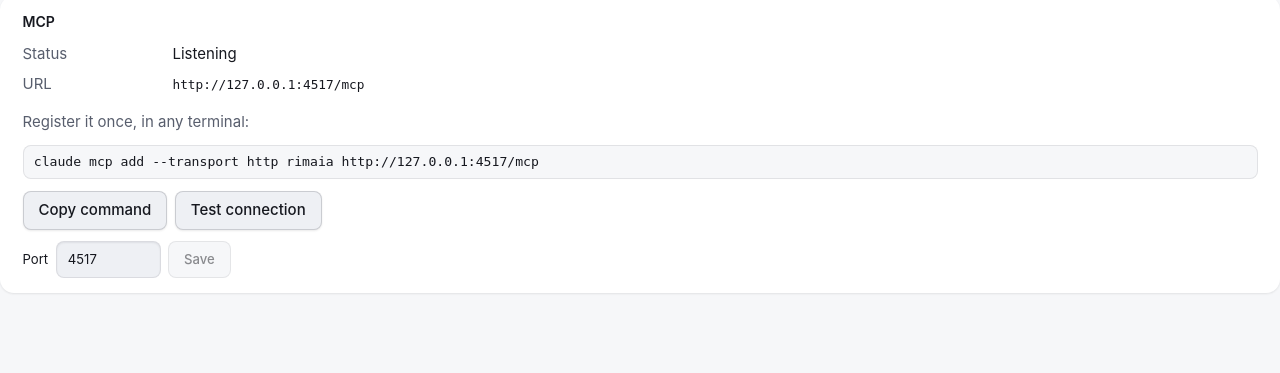
Test: McpSection › shows an error when the clipboard write itself fails
This screenshot has width=1280, height=373.
Click the button "Copy command".
click(95, 210)  # box [22, 190, 167, 230]
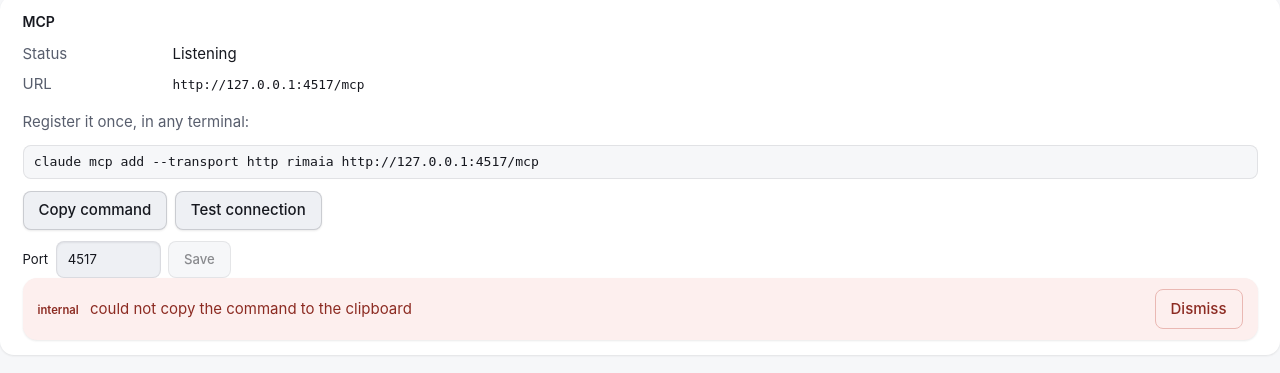
Check: the text "could not copy the command to the clipboard" is shown, box [90, 299, 412, 318]
